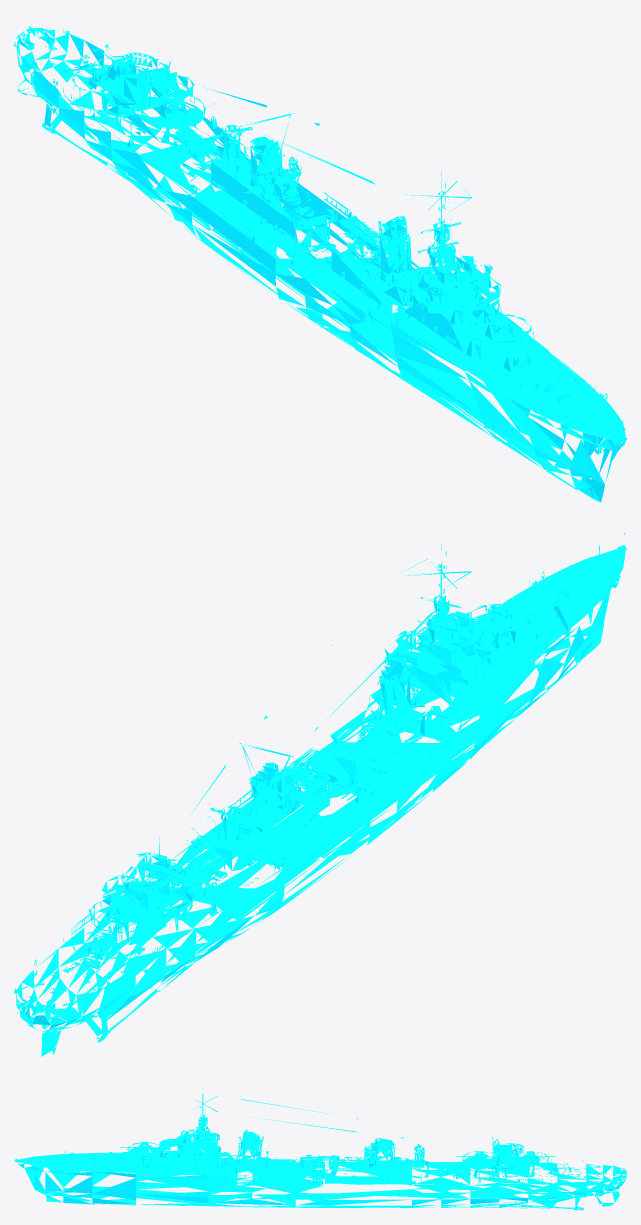
The model's file is PFSD508.glb.
The picture shows the model from 3 angles, top to bottom: view 1: azimuth 30°, elevation 25°; view 2: azimuth 150°, elevation 25°; view 3: azimuth 270°, elevation 25°; orthographic projection. The views are drawn at different scales.
Visible parts, largest first — view 1: hull, turret; view 2: hull, turret; view 3: hull, turret.
Part boxes in pixels (x1,y1,x2,y2): hull: [14, 26, 626, 502]; turret: [79, 49, 540, 375]; hull: [14, 532, 626, 1056]; turret: [80, 597, 540, 961]; hull: [14, 1088, 626, 1210]; turret: [100, 1142, 574, 1180].
Bounding box in the file's own units: 0.8313 × 1.9 × 8.82.
